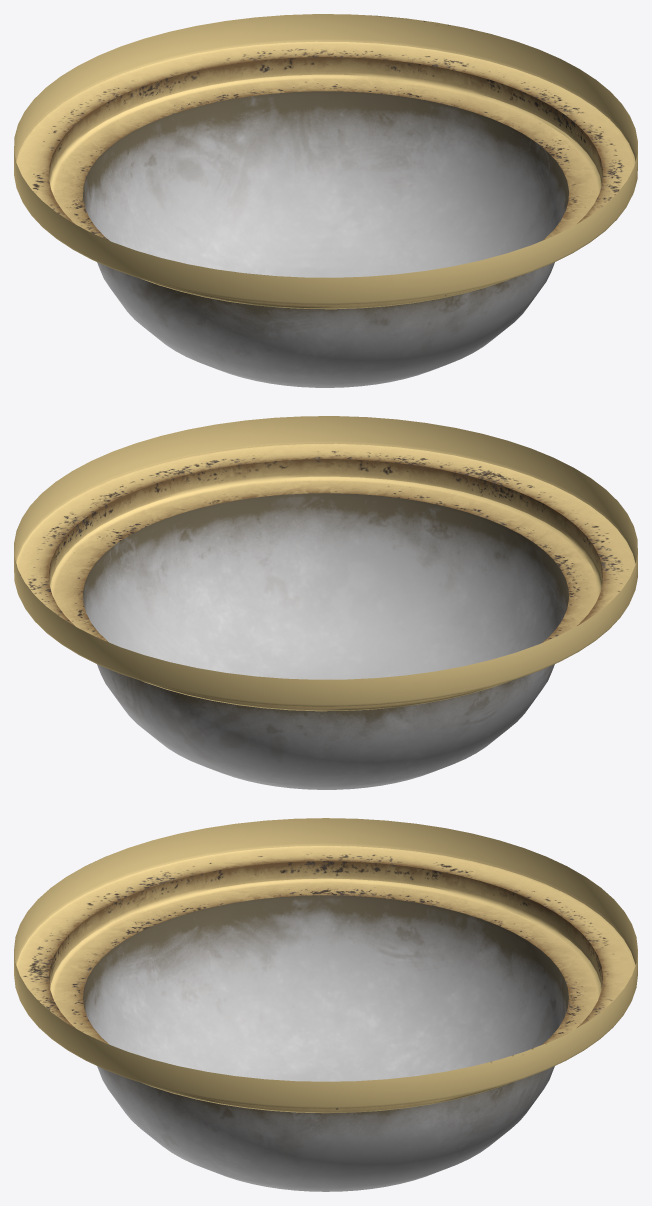
The model's file is WornCeilingLight.fbx.
The picture shows the model from 3 angles, top to bottom: view 1: azimuth 30°, elevation 25°; view 2: azimuth 150°, elevation 25°; view 3: azimuth 270°, elevation 25°; orthographic projection.
Parts seen in each view (by area): view 1: Cylinder; view 2: Cylinder; view 3: Cylinder.
Boxes of the visible parts, x1,y1,x2,y2 form: Cylinder: [14, 14, 637, 387]; Cylinder: [14, 416, 637, 789]; Cylinder: [14, 818, 637, 1191].
Size of the model in its own units: 200 by 67.03 by 200.
2 materials, 2 textured.
